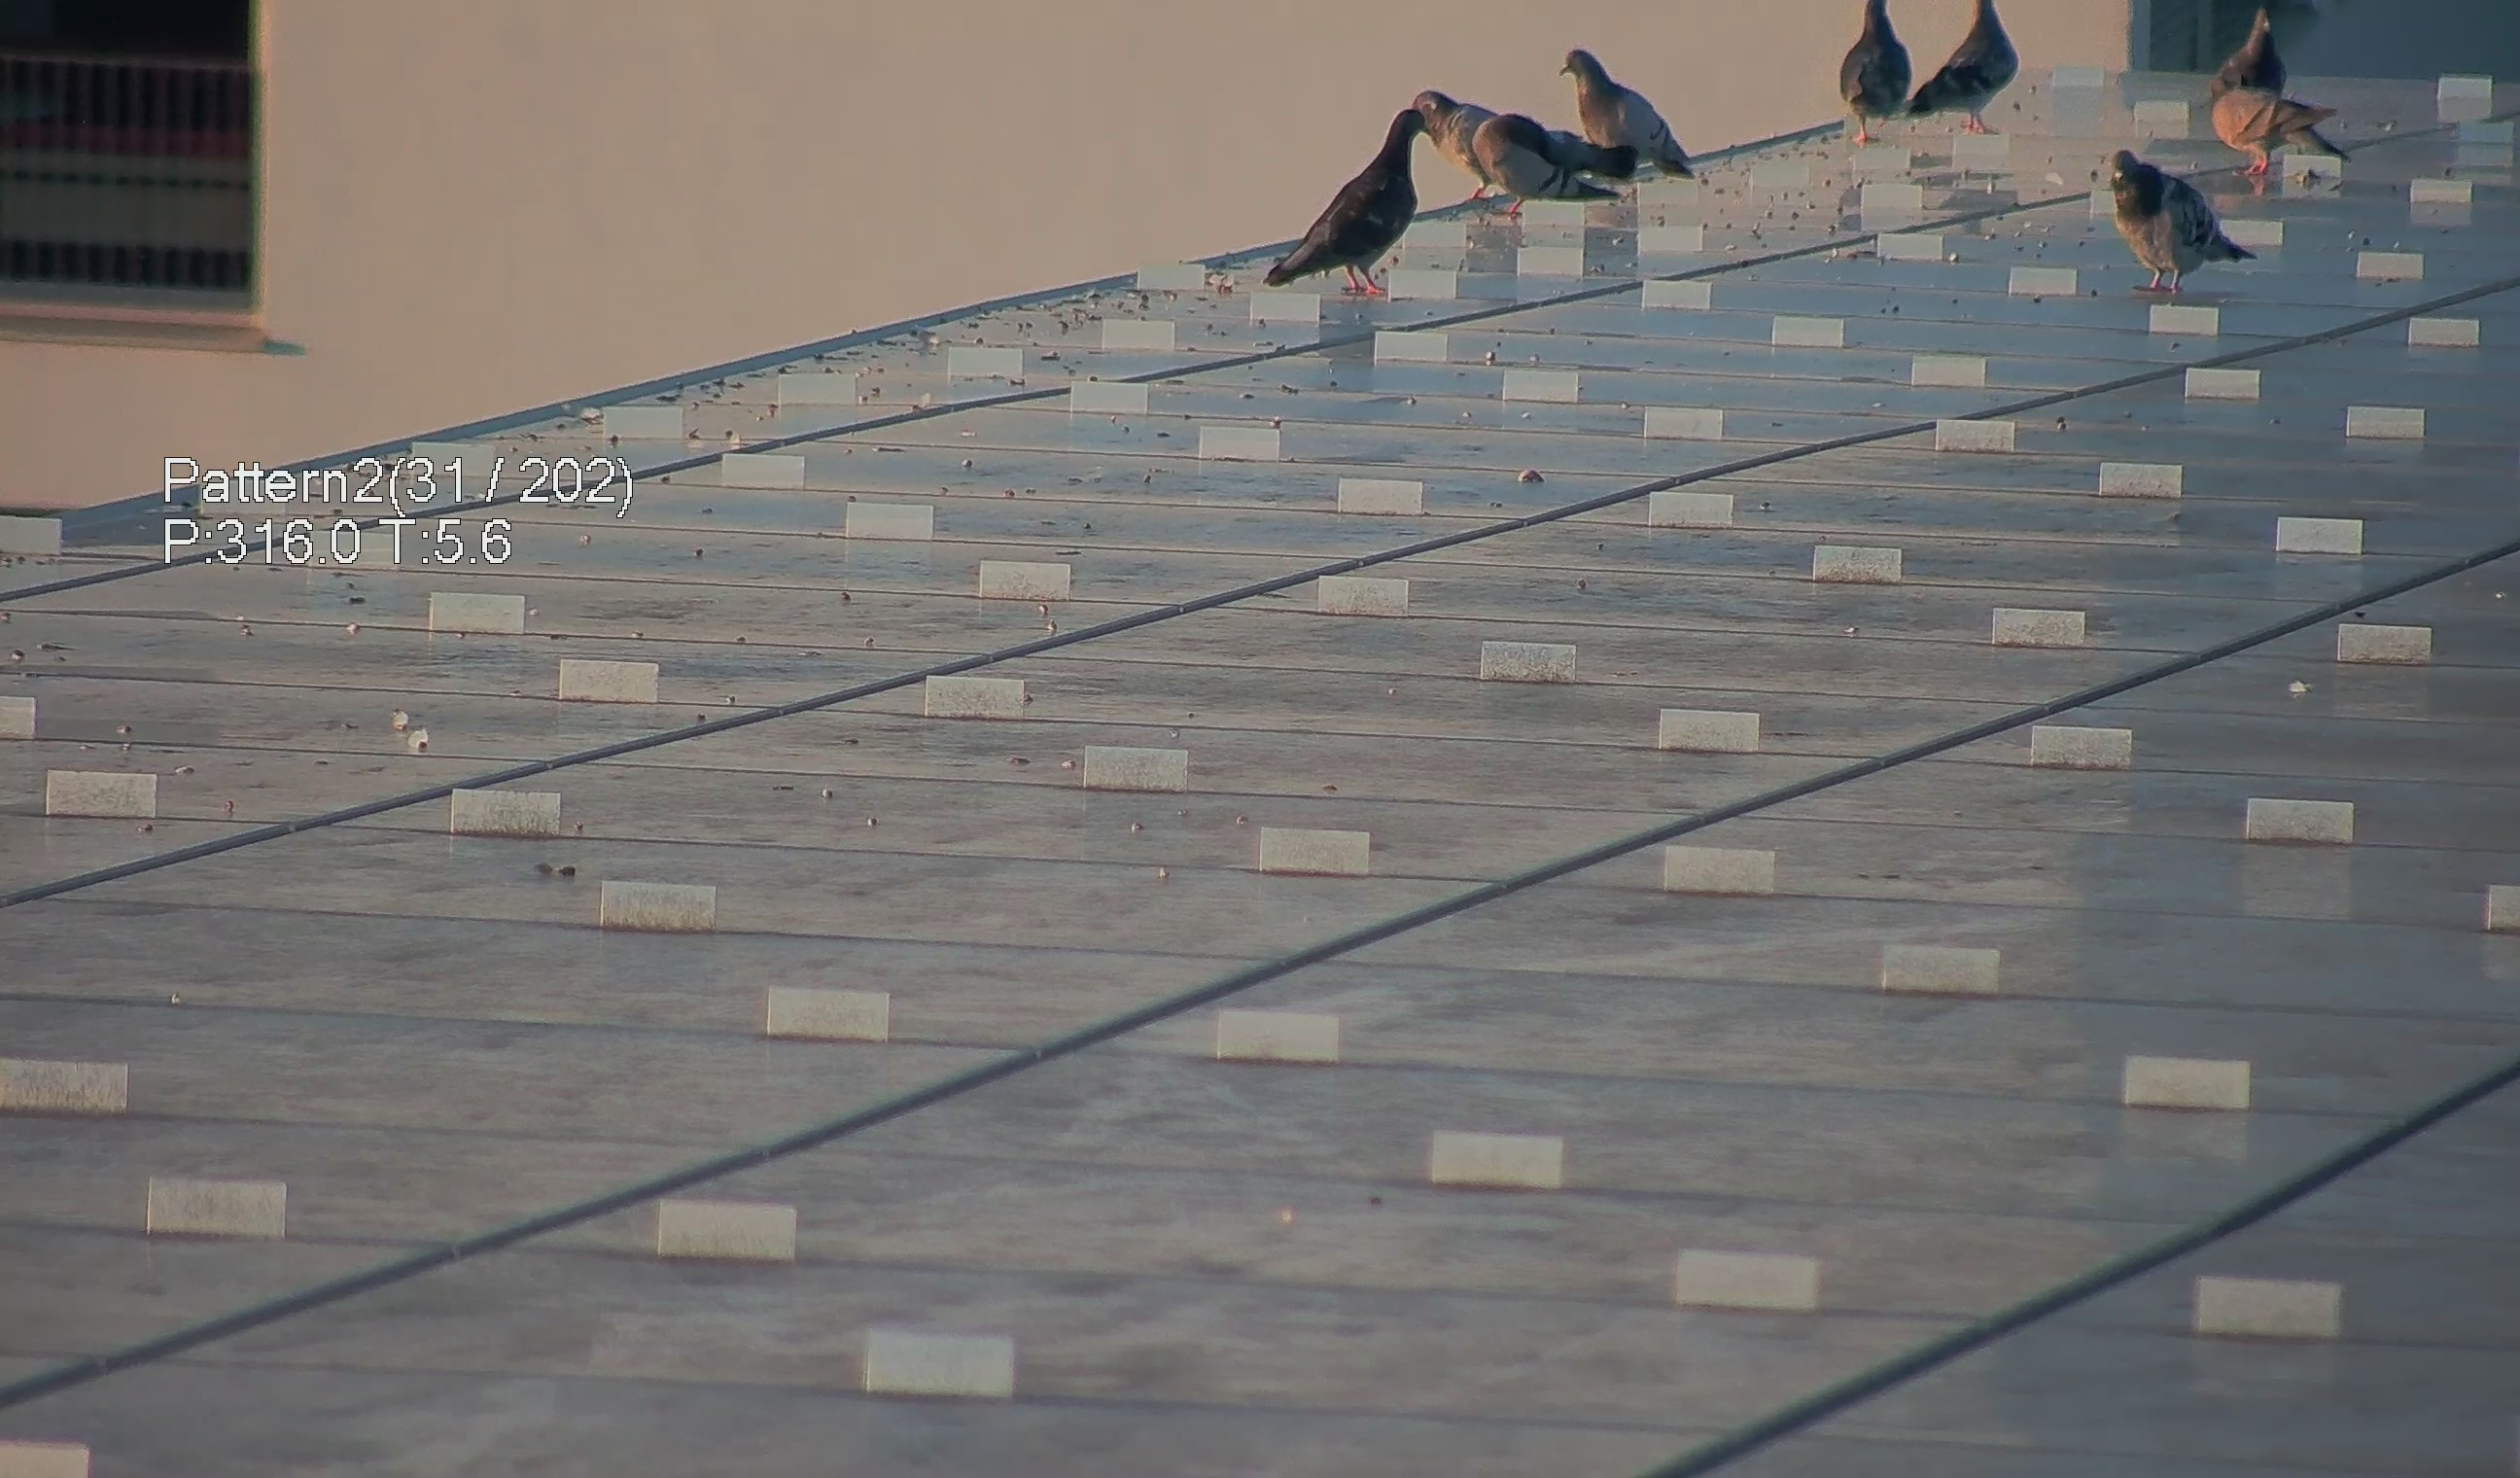Pigeon: (1326, 63, 1607, 271), (1268, 90, 1477, 292), (1447, 42, 1685, 202), (2101, 118, 2277, 299), (2210, 5, 2371, 199), (1417, 79, 1630, 197), (1551, 33, 1711, 179), (1912, 2, 2031, 143), (1834, 2, 1934, 144)
